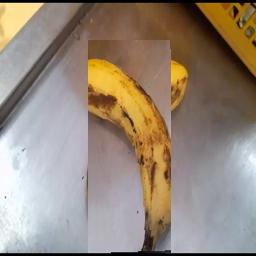Banana Semirotten: (89, 40, 172, 256)
